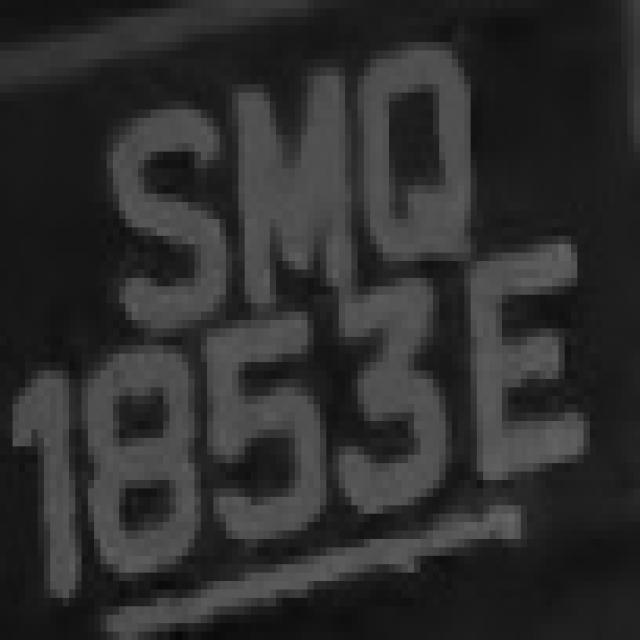1: (6, 362, 94, 615)
3: (320, 253, 433, 539)
5: (188, 303, 333, 564)
8: (75, 312, 201, 614)
E: (464, 227, 596, 522)
M: (214, 59, 352, 303)
Q: (332, 34, 496, 286)
S: (88, 92, 232, 328)
